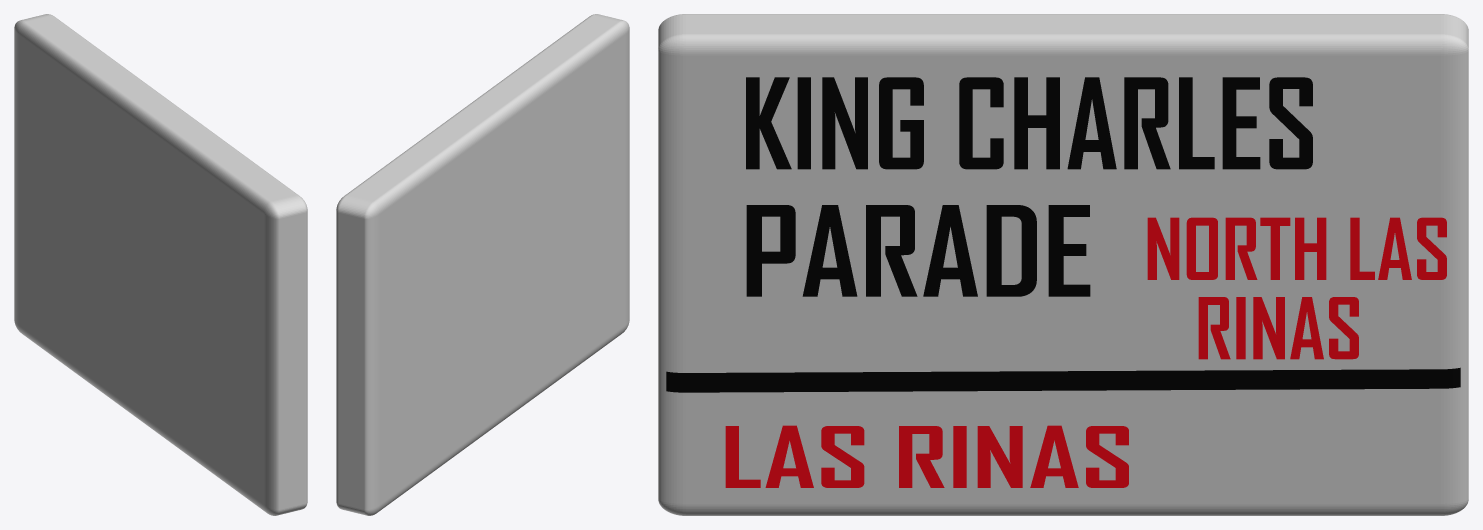
File: uk_styled_street_sign_11.fbx
3 renders of one model, left to right at view 1: azimuth 30°, elevation 25°; view 2: azimuth 150°, elevation 25°; view 3: azimuth 270°, elevation 25°, orthographic. The views are drawn at different scales.
Visible parts, largest first — view 1: Cube; view 2: Cube; view 3: Cube, Text, Text.001, Text.002, Text.003, Text.004.
Boxes of the visible parts, left/top/right/bottom form: Cube: left=14, top=14, right=307, bottom=515; Cube: left=336, top=14, right=629, bottom=515; Cube: left=658, top=14, right=1468, bottom=515; Text: left=746, top=77, right=1312, bottom=169; Text.001: left=746, top=205, right=1090, bottom=296; Text.002: left=725, top=425, right=1128, bottom=487; Text.003: left=1147, top=217, right=1446, bottom=279; Text.004: left=1198, top=297, right=1358, bottom=359.
Bounding box in the file's own units: 1.63 × 11.91 × 18.18.
